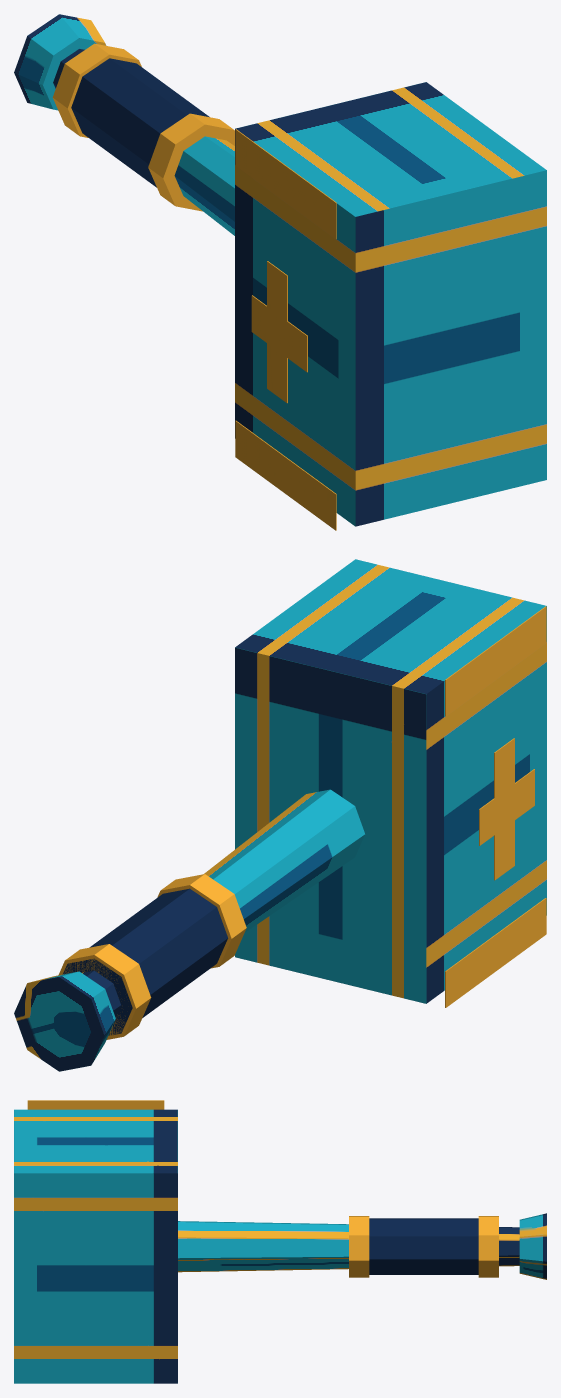
File: SM_RMM_AzureBlockhead.obj
The picture shows the model from 3 angles, top to bottom: view 1: azimuth 30°, elevation 25°; view 2: azimuth 150°, elevation 25°; view 3: azimuth 270°, elevation 25°; orthographic projection. The views are drawn at different scales.
Visible parts, largest first — view 1: SM_RMM_AzureBlockhead; view 2: SM_RMM_AzureBlockhead; view 3: SM_RMM_AzureBlockhead.
Part boxes in pixels (x1,y1,x2,y2): SM_RMM_AzureBlockhead: (14,14,546,530); SM_RMM_AzureBlockhead: (14,559,546,1071); SM_RMM_AzureBlockhead: (14,1100,546,1383).
Size of the model in its own units: 24.1 by 36 by 78.
Materials: 3 (1 with a texture image).
